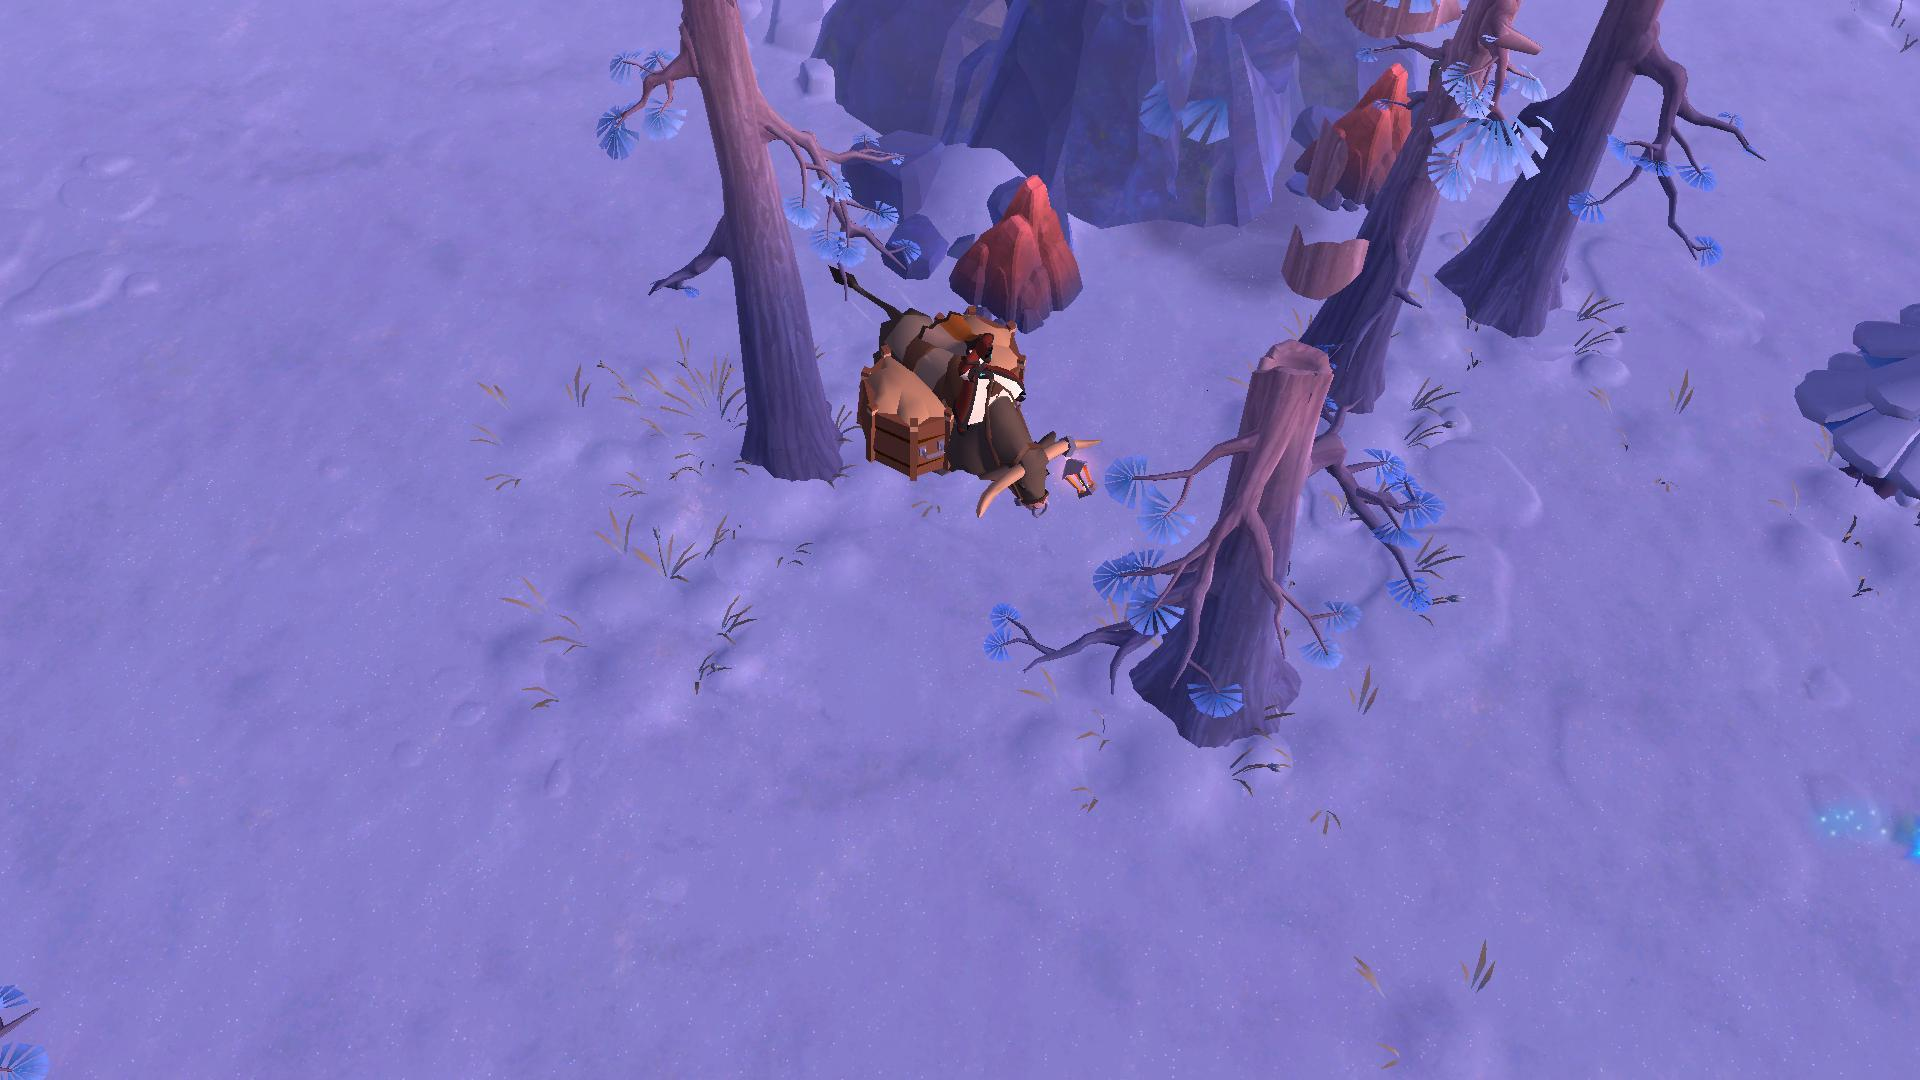rock_t5: (943, 166, 1076, 338), (1300, 59, 1420, 220)
